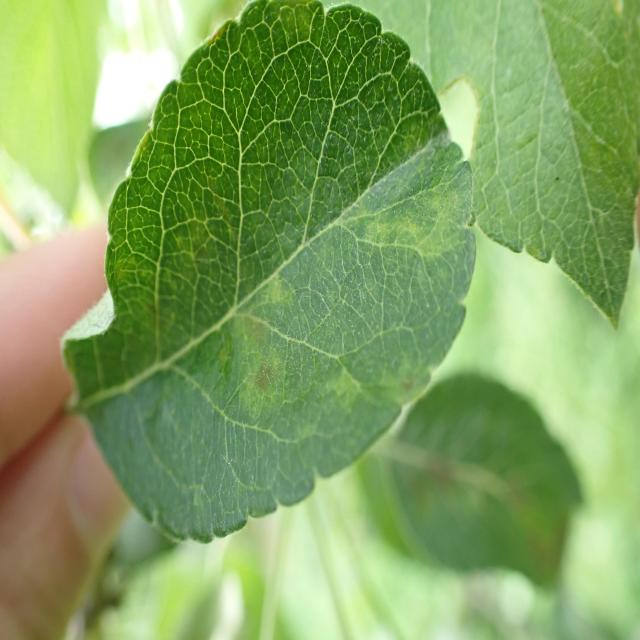scab: (139, 86, 470, 450)
